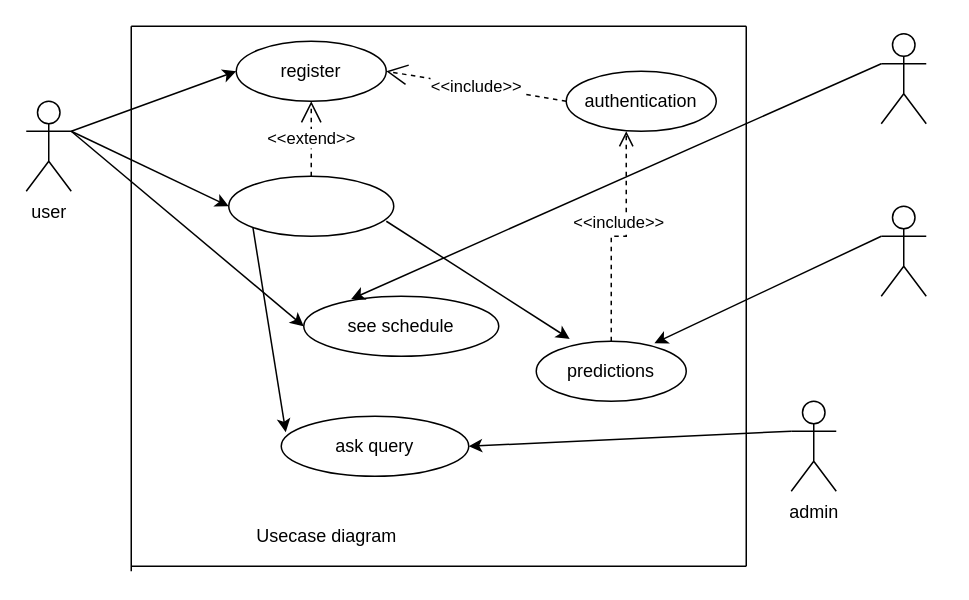
Some shapes in this 969 by 600 pixel diagram are drawn without their labels. The shapes that lost their labels are listed below. From the top down, each one's centre as x and y in pixels, then its label:
the point at 903,78: system
the point at 310,205: login
the point at 903,250: ML model
